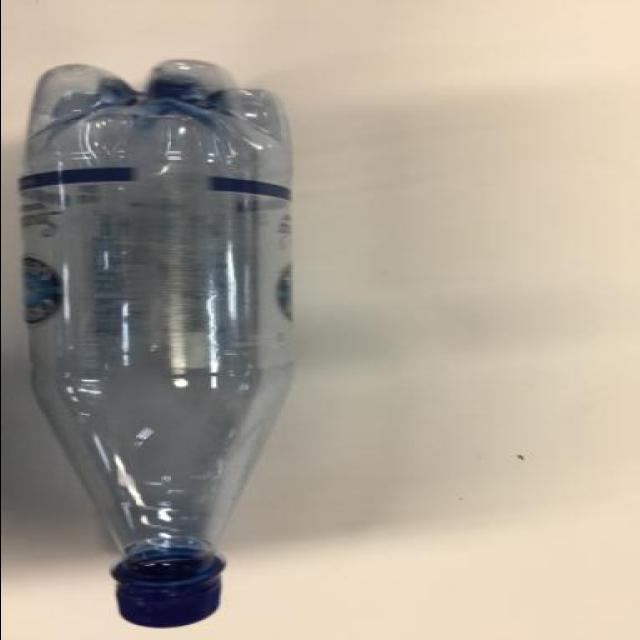litter: (12, 55, 302, 639)
